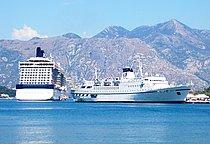Ship: (69, 63, 197, 110), (11, 42, 71, 104)
